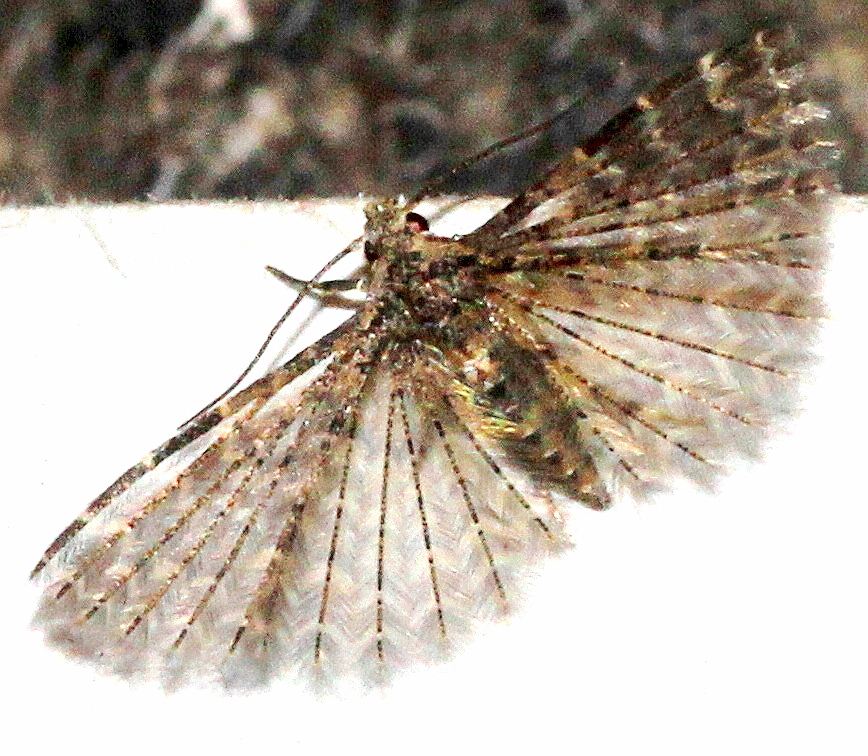Alucitidae: (18, 27, 846, 702)
moth: (20, 29, 848, 704)
